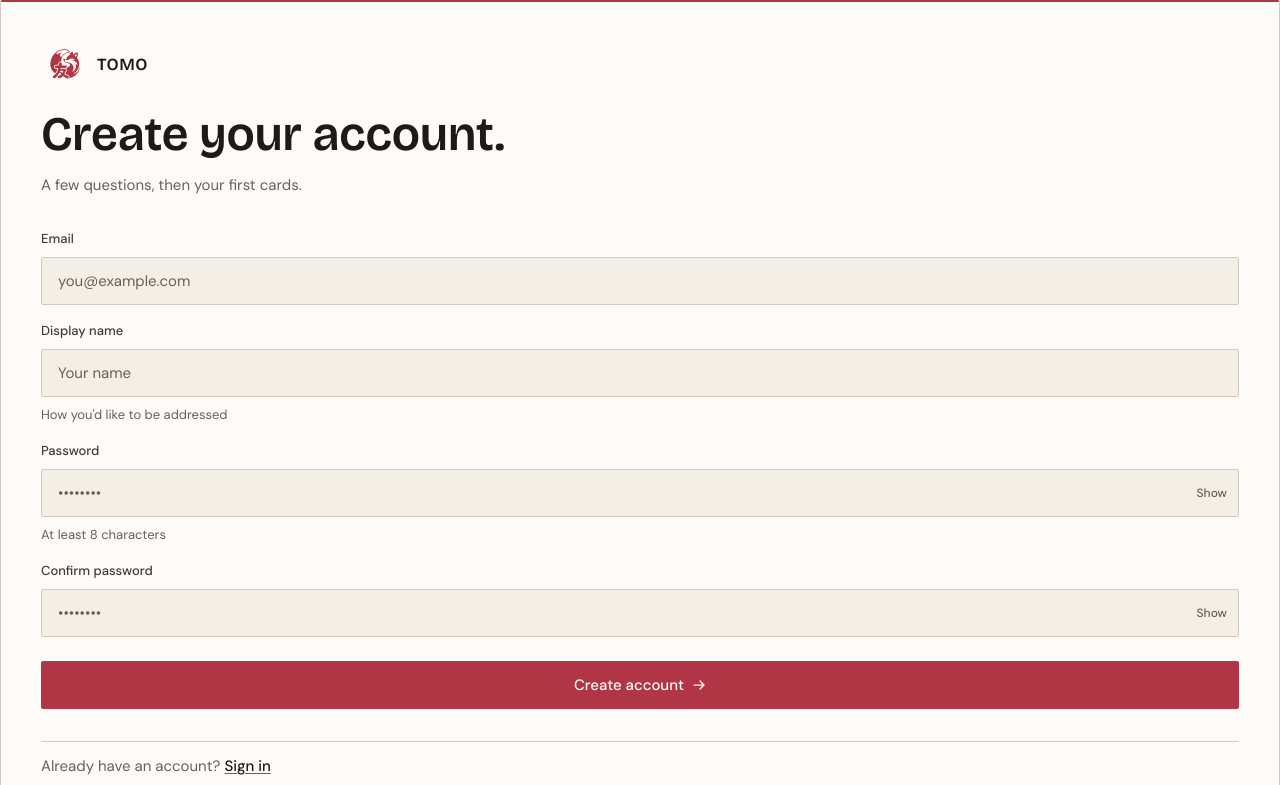
it: signupPage › validation › flags a malformed email and blocks submission
The image size is (1280, 785).
Type "bad" into the field labelled "Email" at (640, 281), box [41, 257, 1239, 305]
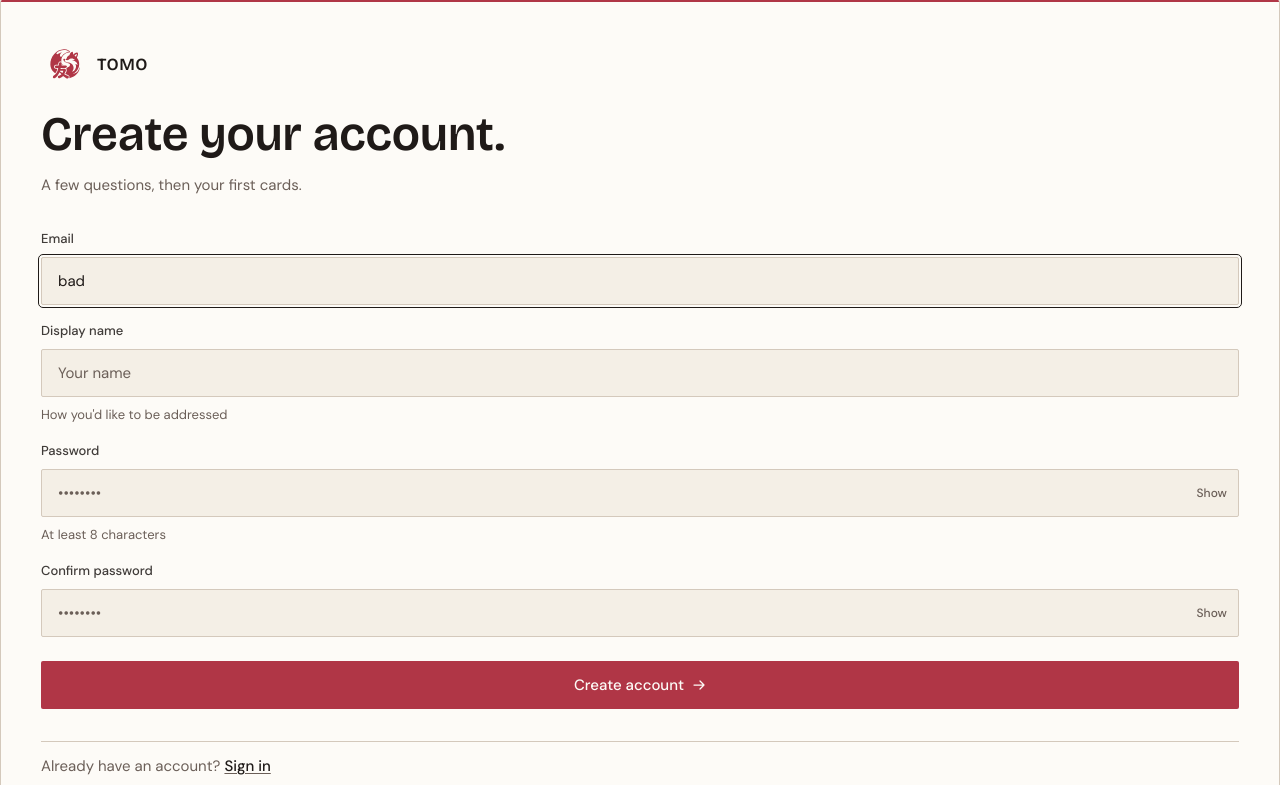
Type "Test User" into the field labelled "Display name" at (640, 373), box [41, 349, 1239, 397]
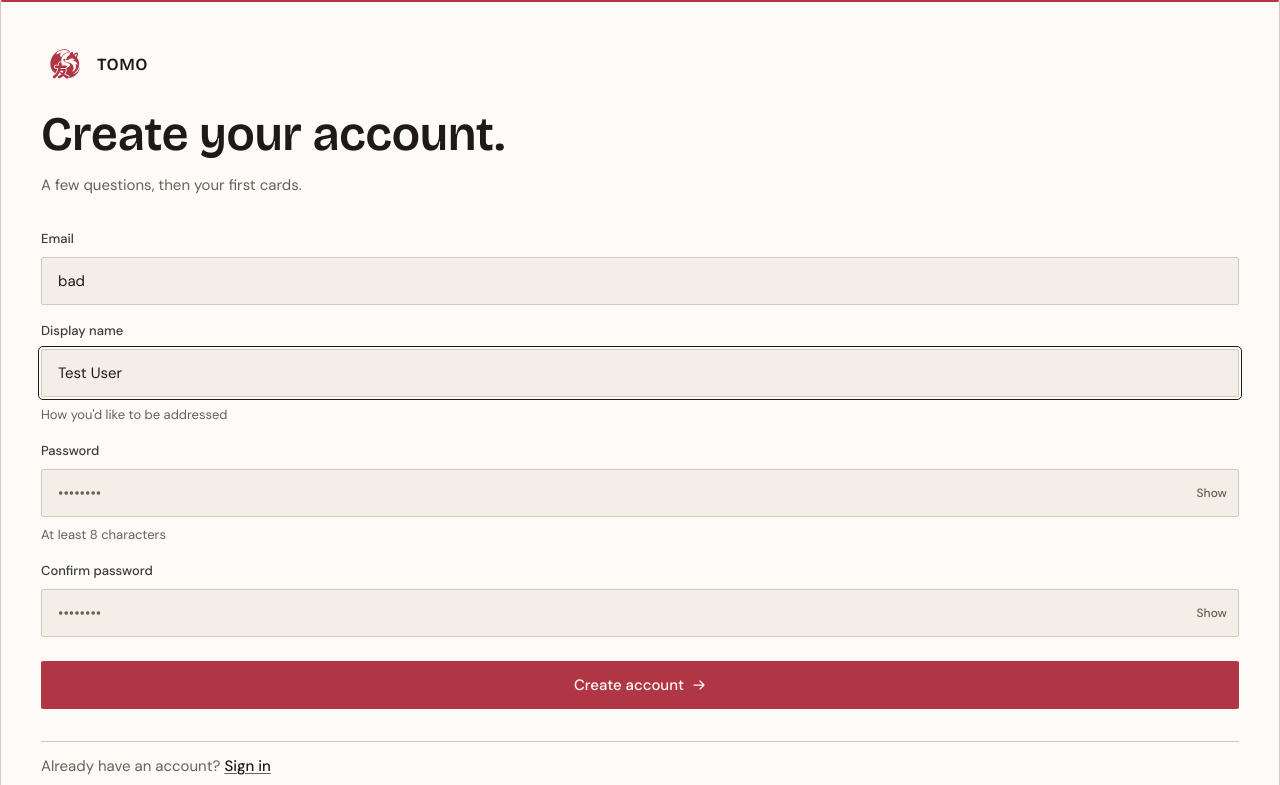
Type "Hunter2222" into the password field labelled "Password" at (640, 493), box [41, 469, 1239, 517]
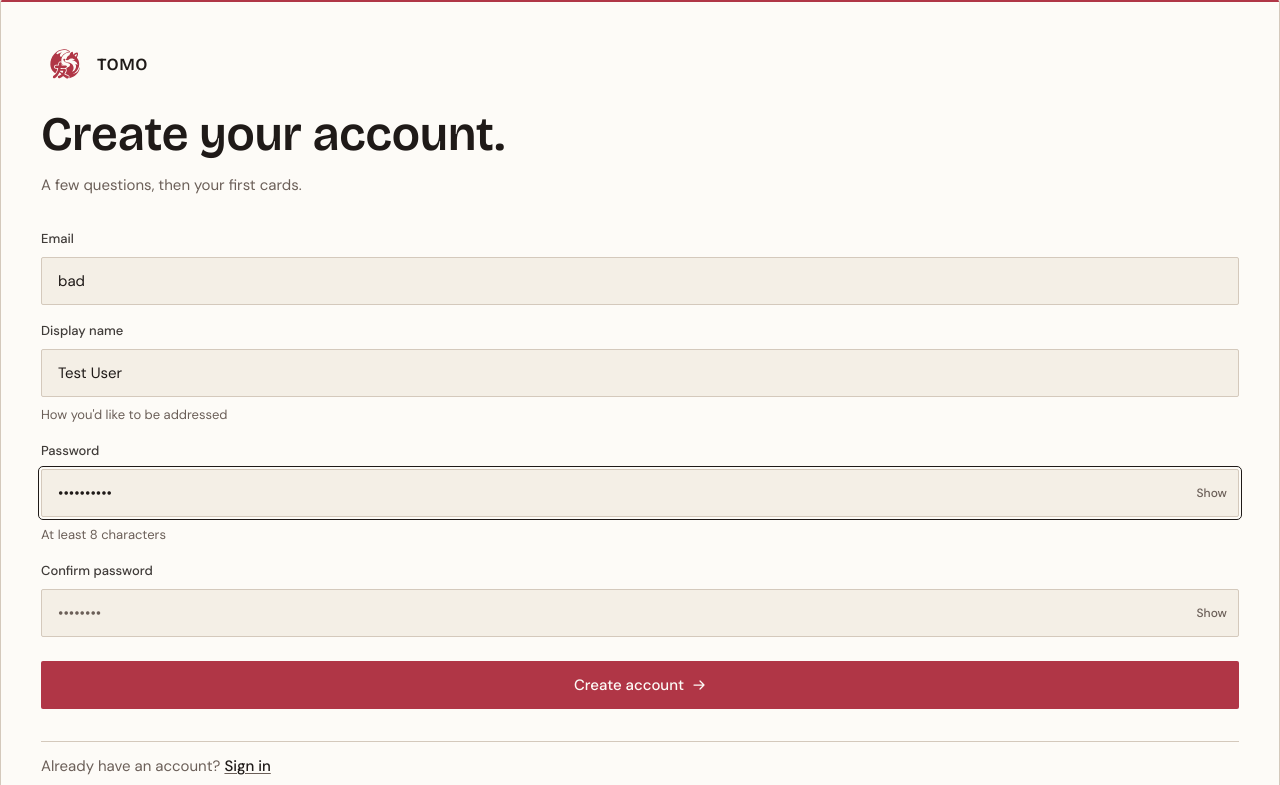
Type "Hunter2222" into the password field labelled "Confirm password" at (640, 613), box [41, 589, 1239, 637]
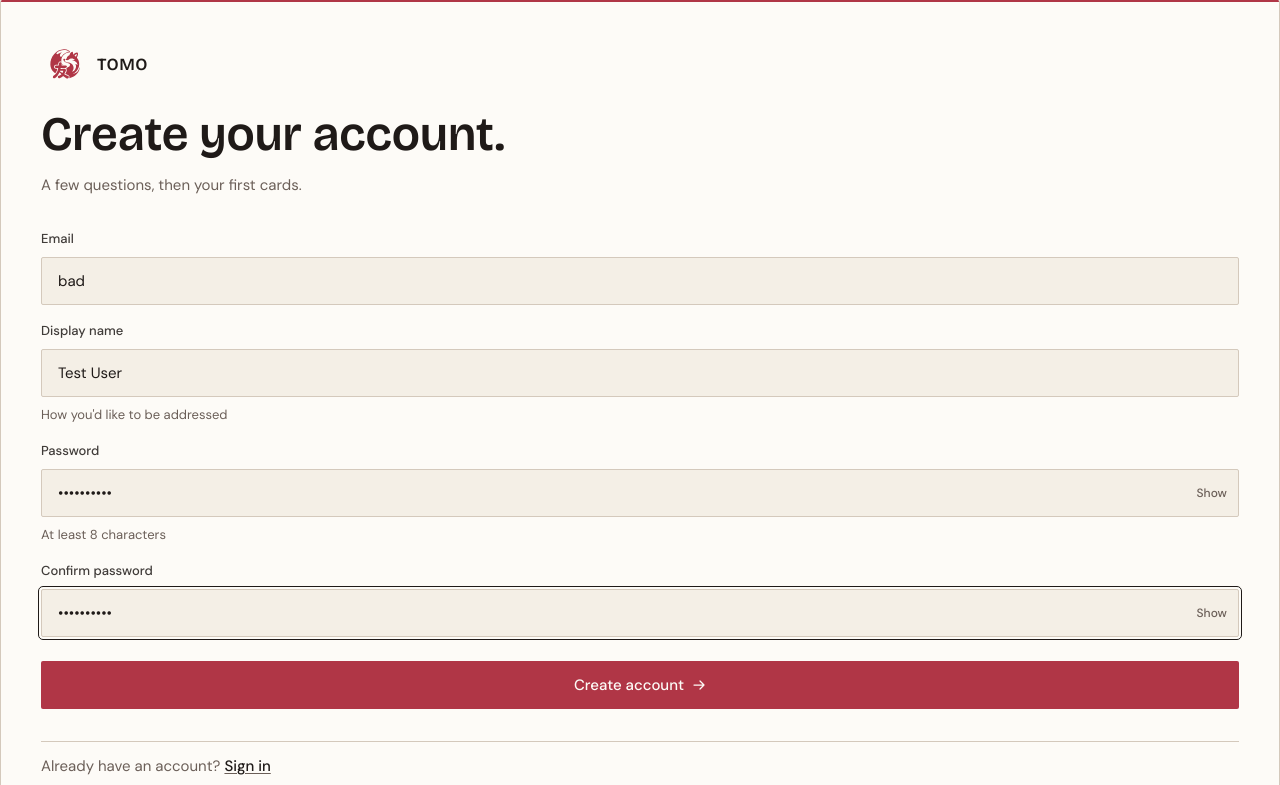
Click the button "Create account" at (640, 685), box [41, 661, 1239, 709]
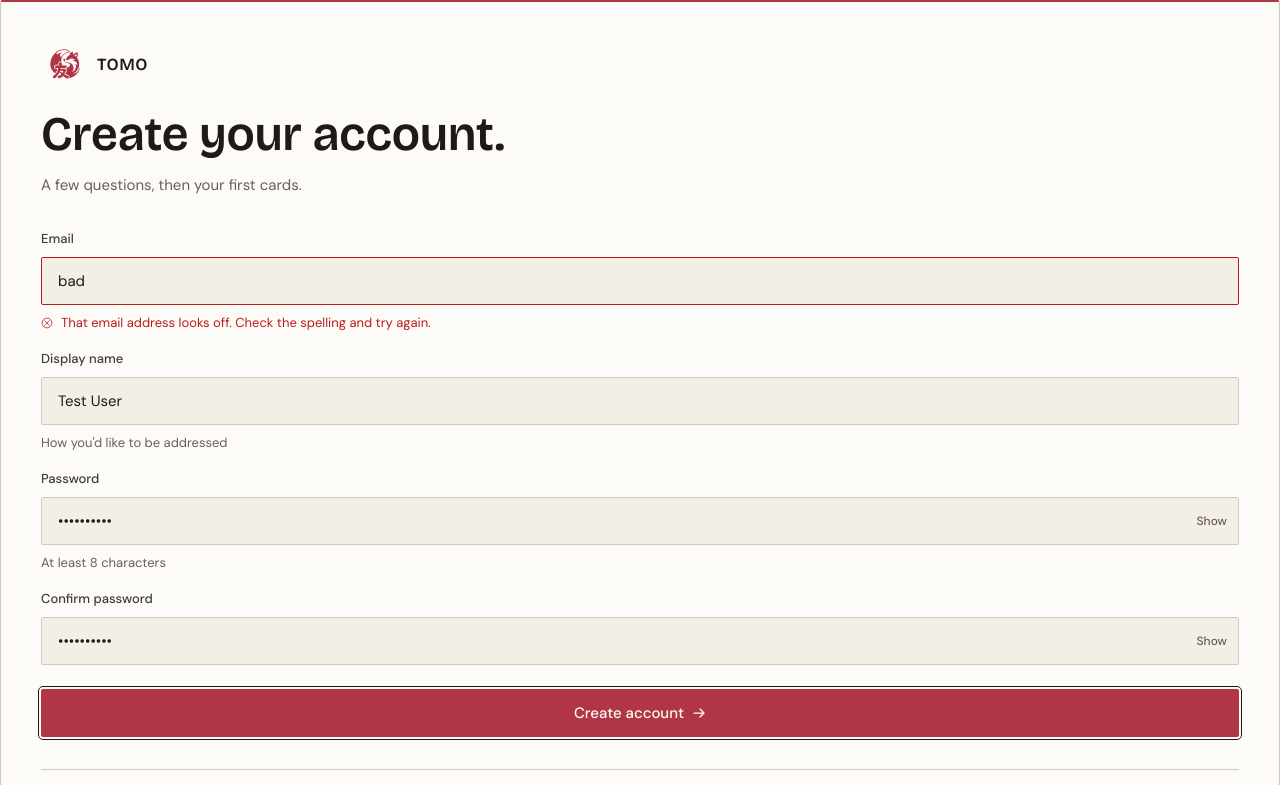
expect the text "email address looks off" is shown: met, box [61, 314, 431, 331]
